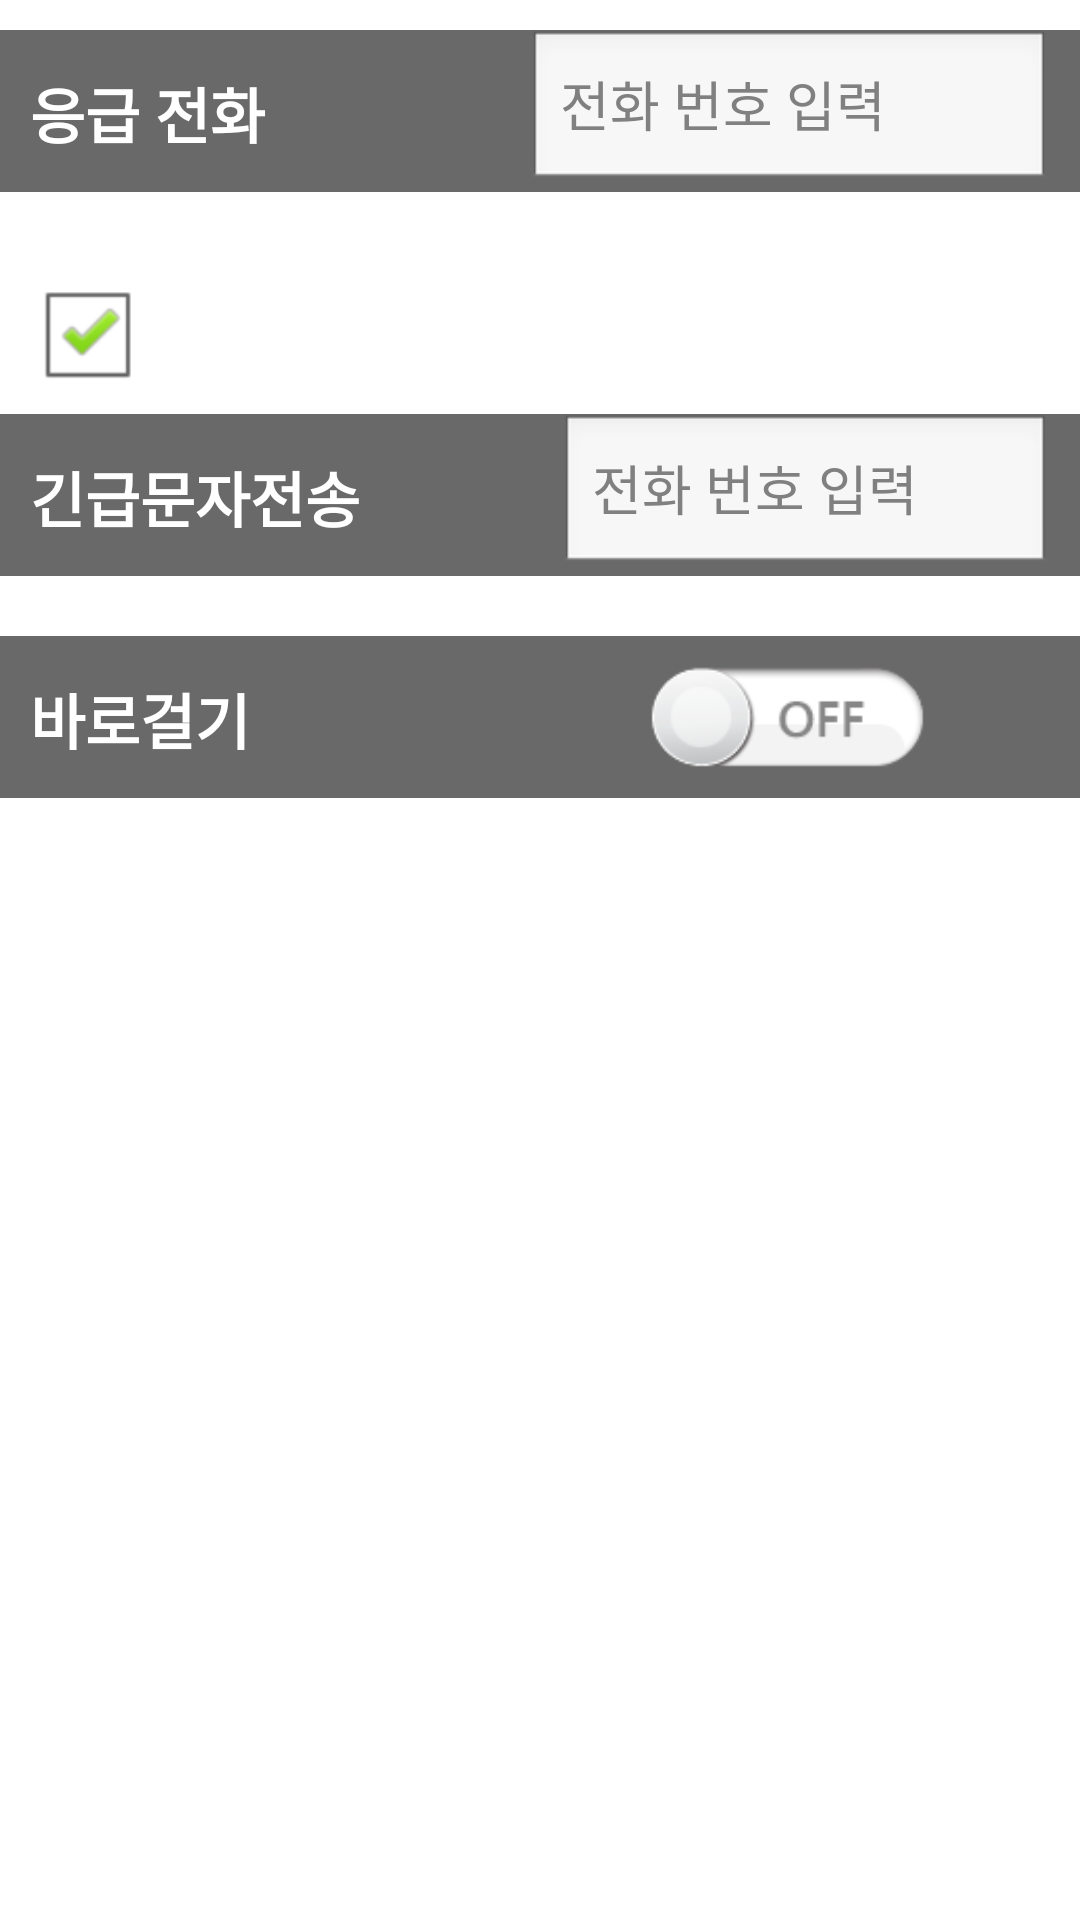

Screen size 1080*1920. Icon name, then its center in pixels as (x=x, y=y):
toggle: (x=787, y=717)
